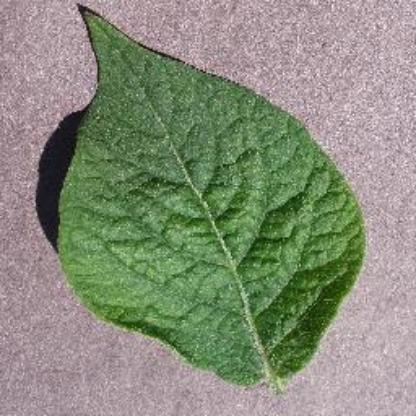Healthy-plant: (42, 0, 373, 398)
